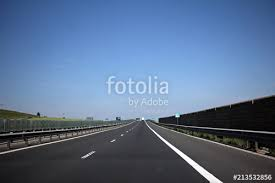strada: (35, 121, 188, 183)
